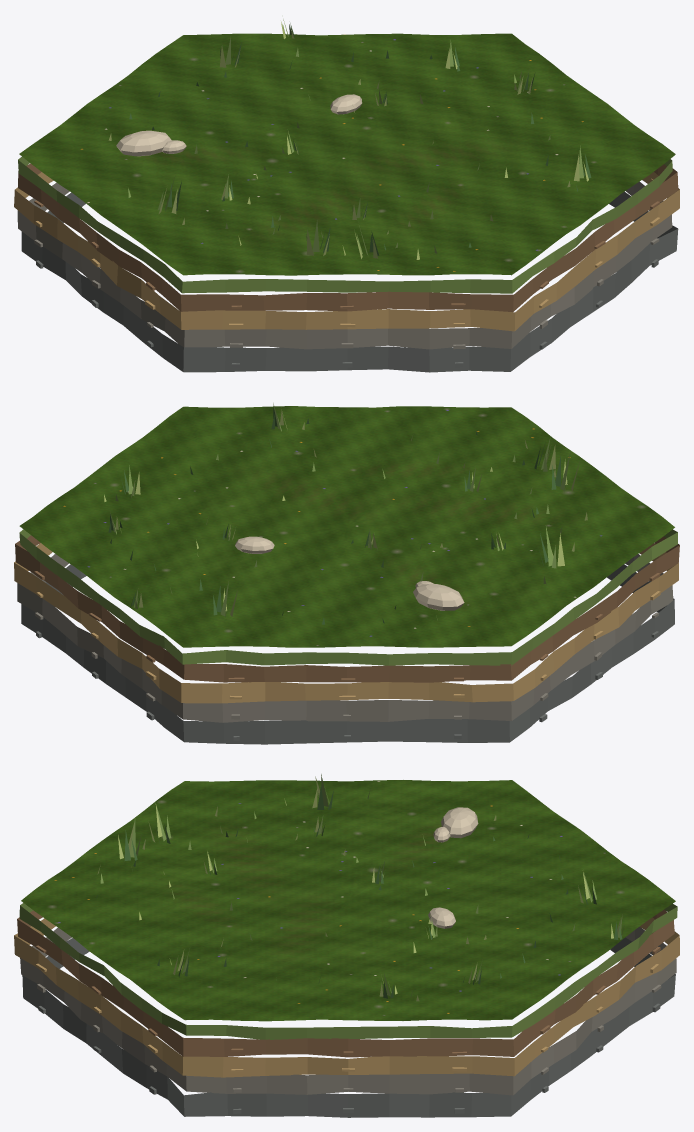
The model's file is terrain-grassland-lod1.glb.
3 renders of one model, top to bottom at view 1: azimuth 30°, elevation 25°; view 2: azimuth 150°, elevation 25°; view 3: azimuth 270°, elevation 25°, orthographic.
Visible parts, largest first — view 1: grassland_dense_top_surface, bedrock_layer, clay_layer, gravel_layer, loam_layer, turf_edge, grouped_embedded_stone_1; view 2: grassland_dense_top_surface, bedrock_layer, gravel_layer, clay_layer, loam_layer, turf_edge, grouped_embedded_stone_1, grouped_embedded_stone_3; view 3: grassland_dense_top_surface, bedrock_layer, clay_layer, gravel_layer, loam_layer, turf_edge, grouped_embedded_stone_1.
Part boxes in pixels (x1,y1,x2,y2): grassland_dense_top_surface: [19, 33, 675, 275]; bedrock_layer: [21, 191, 678, 372]; clay_layer: [14, 172, 679, 331]; gravel_layer: [17, 181, 672, 349]; loam_layer: [18, 163, 678, 311]; turf_edge: [18, 157, 672, 293]; grouped_embedded_stone_1: [116, 130, 171, 156]; grassland_dense_top_surface: [19, 406, 674, 647]; bedrock_layer: [21, 564, 674, 744]; gravel_layer: [17, 554, 673, 722]; clay_layer: [14, 543, 678, 703]; loam_layer: [15, 535, 679, 682]; turf_edge: [19, 529, 677, 665]; grouped_embedded_stone_1: [413, 584, 464, 610]; grouped_embedded_stone_3: [235, 536, 274, 553]; grassland_dense_top_surface: [21, 780, 675, 1021]; bedrock_layer: [22, 937, 675, 1117]; clay_layer: [14, 917, 679, 1077]; gravel_layer: [20, 927, 676, 1095]; loam_layer: [17, 910, 674, 1057]; turf_edge: [19, 903, 677, 1039]; grouped_embedded_stone_1: [441, 807, 478, 838].
Bounding box in the file's own units: 2 × 0.5127 × 2.28.
Materials: 10 (1 with a texture image).
